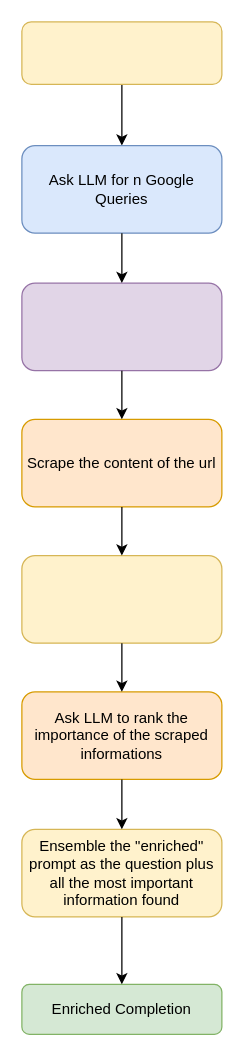
The diagram is 244 pixels wide and 1056 high, and some of its shapes have lost their labels. Each missing label, with the centre of its shape:
"Ask LLM to extract relevant informations fro them the content" goes at (x=121, y=598).
"For each Query look out for n top results" goes at (x=121, y=326).
"Question that requires external help" goes at (x=121, y=52).
